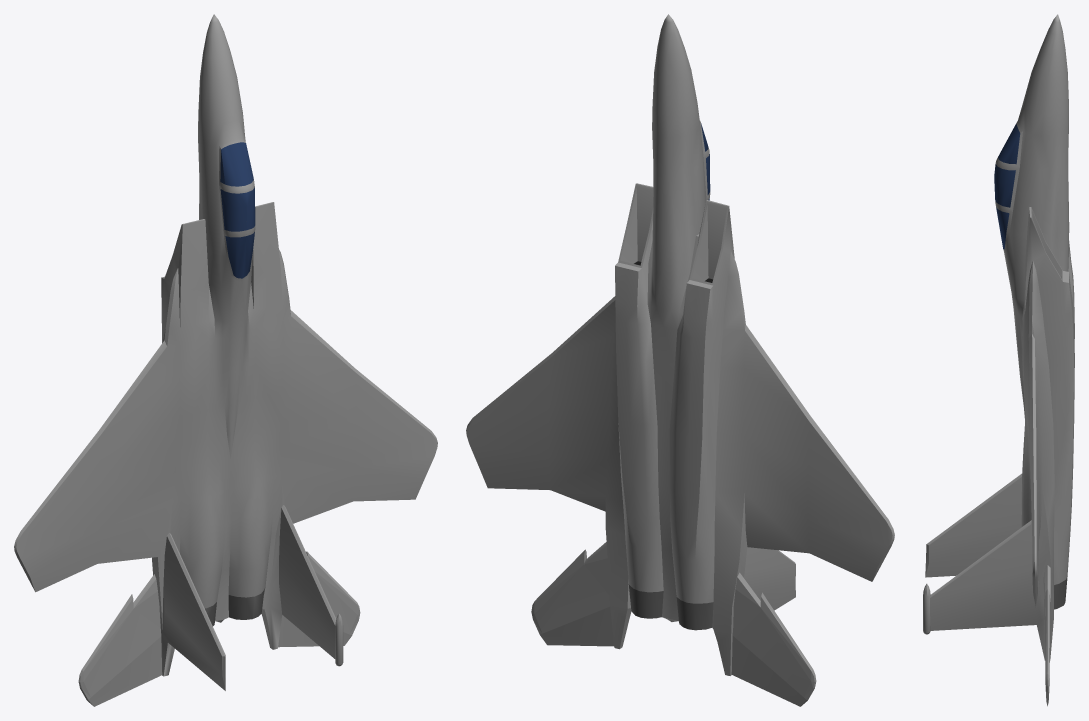
File: shape_000_LiSiCin_Stolen_F15.glb
3 views of the same model, side by side, from view 1: azimuth 30°, elevation 25°; view 2: azimuth 150°, elevation 25°; view 3: azimuth 270°, elevation 25° (orthographic). The views are drawn at different scales.
Parts seen in each view (by area): view 1: Li_Si_Cin_F15.001; view 2: Li_Si_Cin_F15.001; view 3: Li_Si_Cin_F15.001.
Part boxes in pixels (box(x1,y1,x2,y2)): Li_Si_Cin_F15.001: box(14, 14, 437, 706); Li_Si_Cin_F15.001: box(466, 14, 894, 706); Li_Si_Cin_F15.001: box(923, 14, 1074, 706).
Size of the model in its own units: 45.82 by 68 by 14.76.
